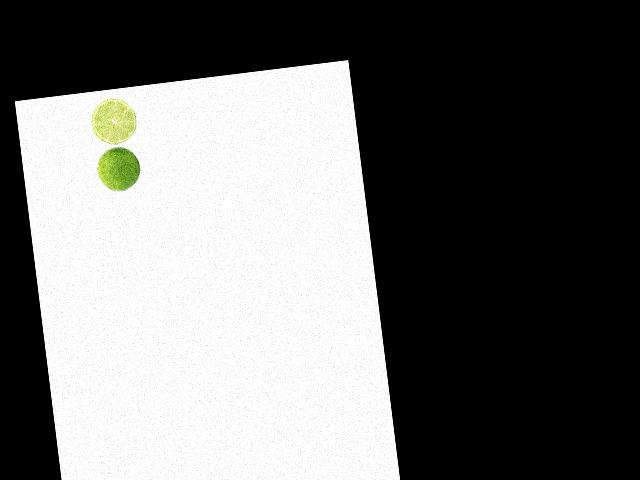lemon: (95, 144, 145, 193)
